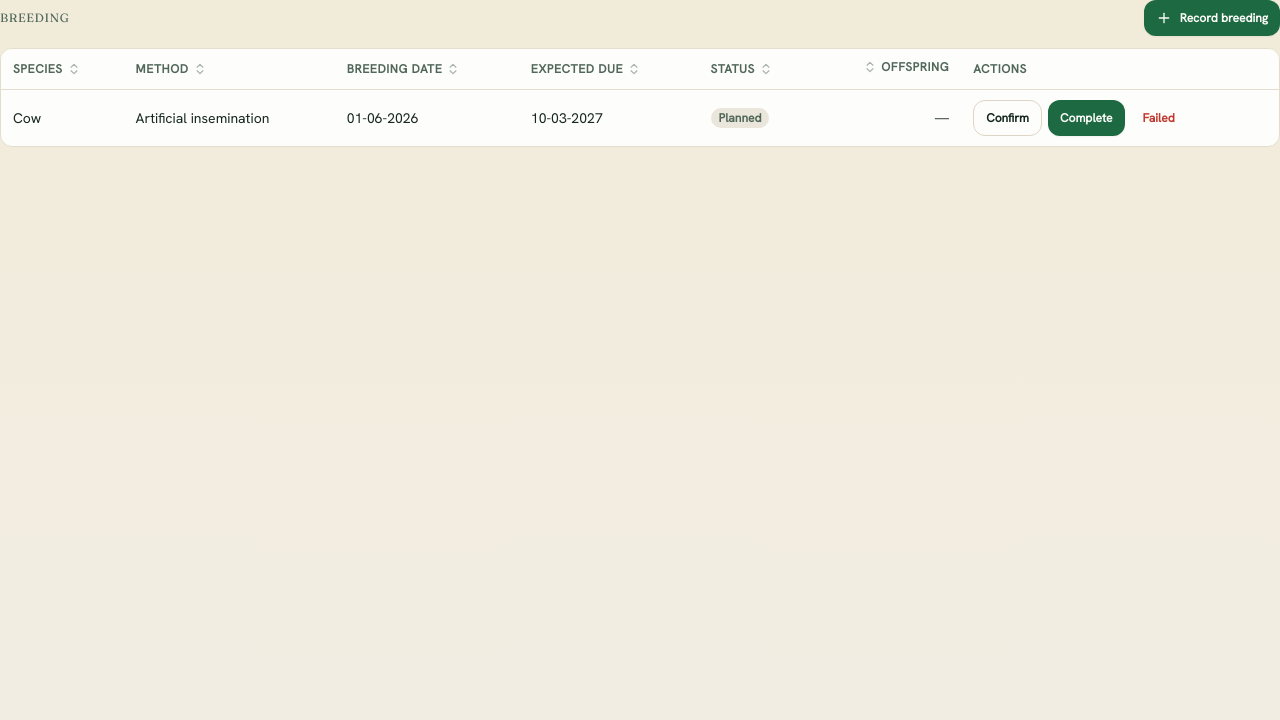
BreedingPanel (records table + status flow) › completes a breeding capturing the offspring count
Expected: the text "Cow" is shown, top-left (1, 89), bottom-right (124, 146)
Step 1. Click the button "Complete" → (1086, 118), box top-left (1048, 100), bottom-right (1125, 136)
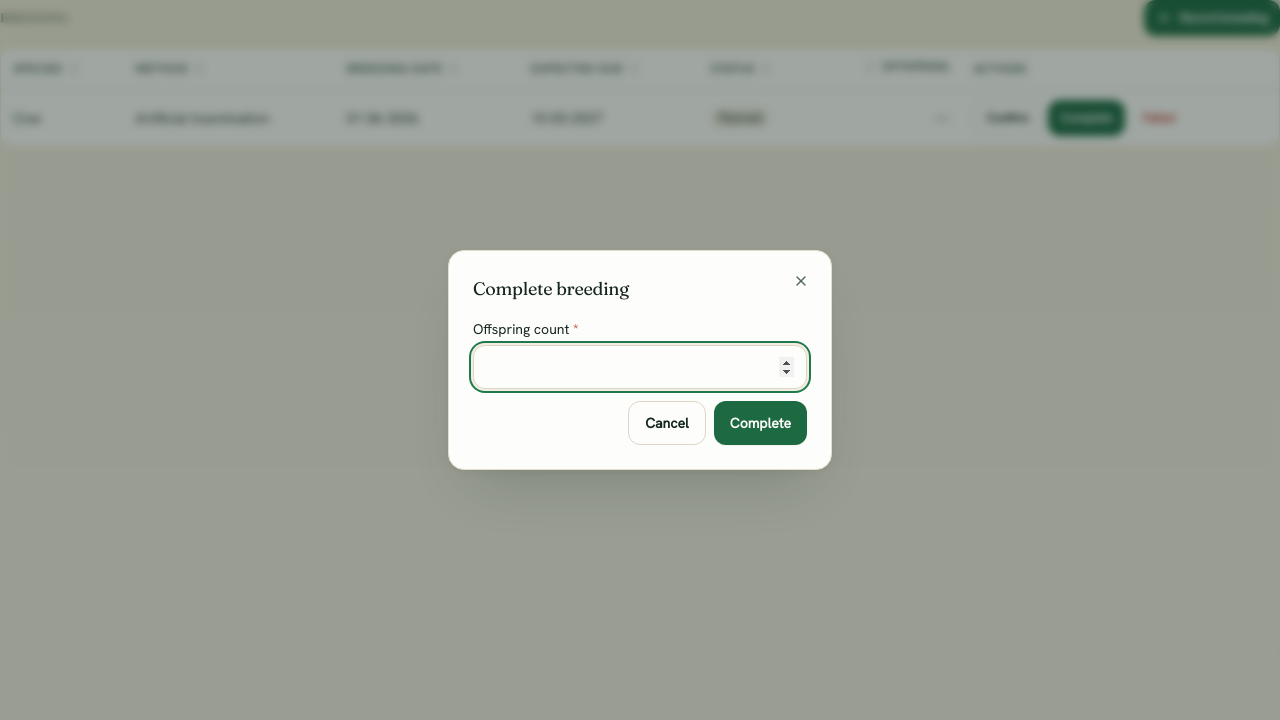
Step 2. Type "3" into the number field labelled "Offspring count *" → (640, 367), box top-left (473, 345), bottom-right (807, 389)
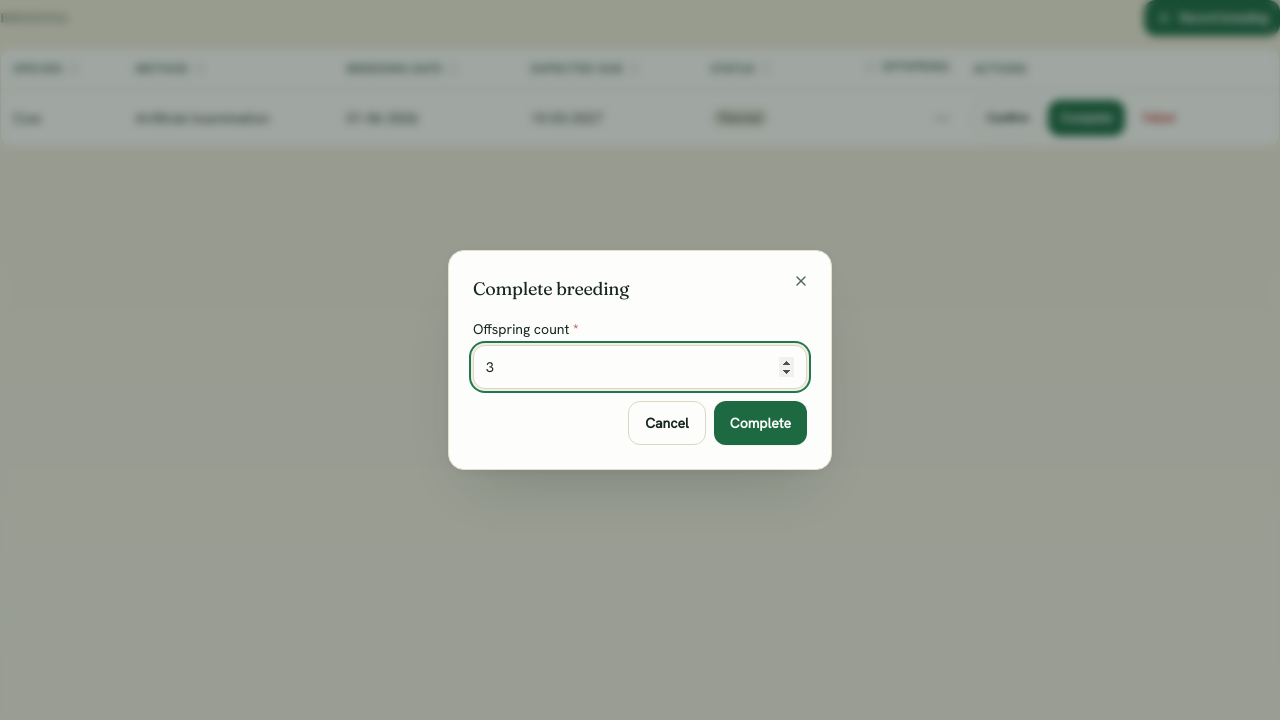
Step 3. Click the button "Complete" → (760, 423), box top-left (714, 401), bottom-right (807, 445)
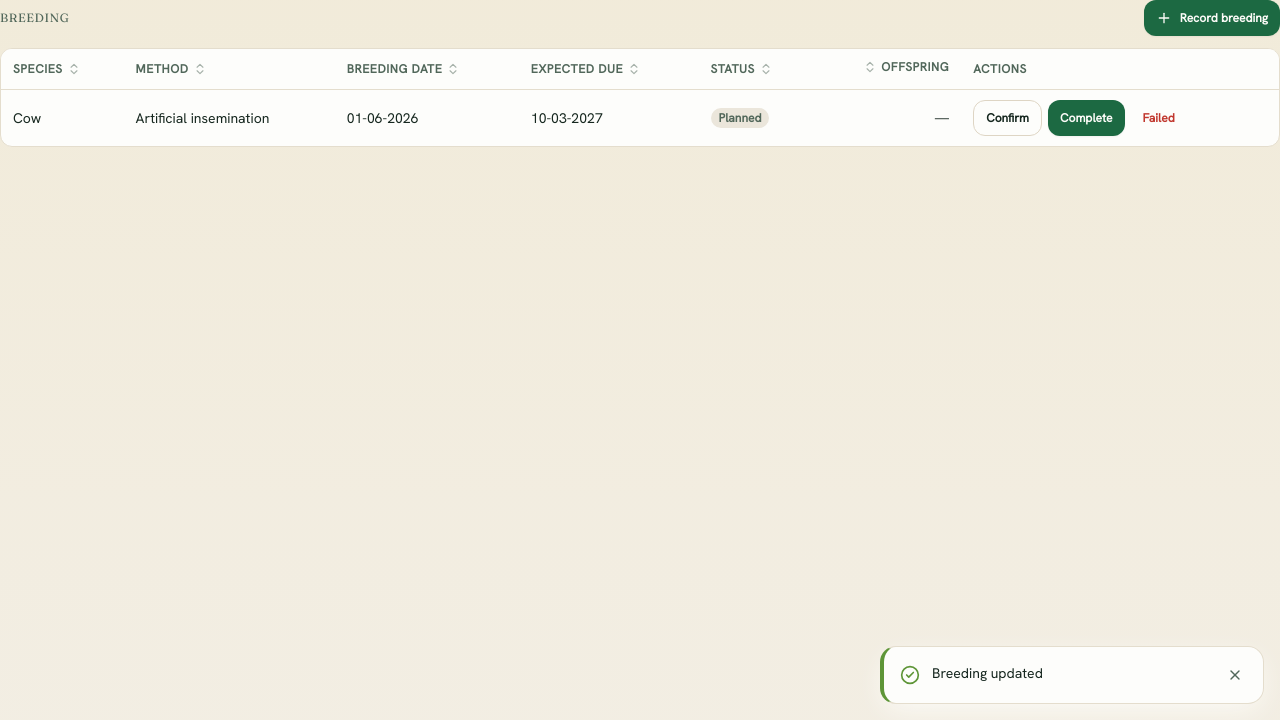
Expected: the text "Breeding updated" is shown, top-left (932, 664), bottom-right (1043, 682)
